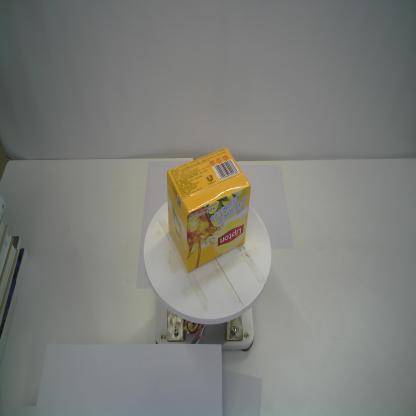Instant Drink: (166, 148, 251, 272)
